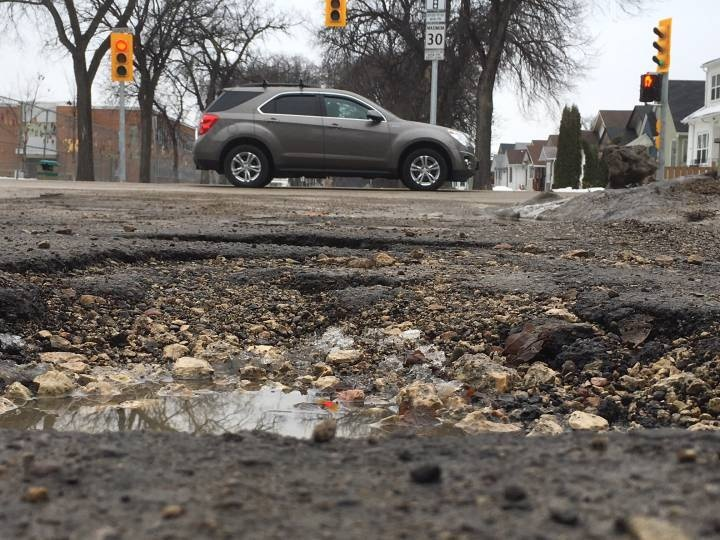pothole: (33, 245, 718, 474)
